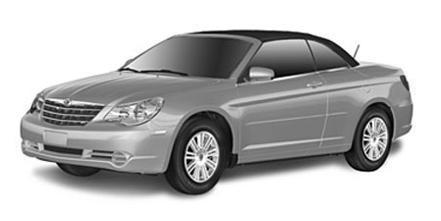car: (19, 30, 417, 194)
